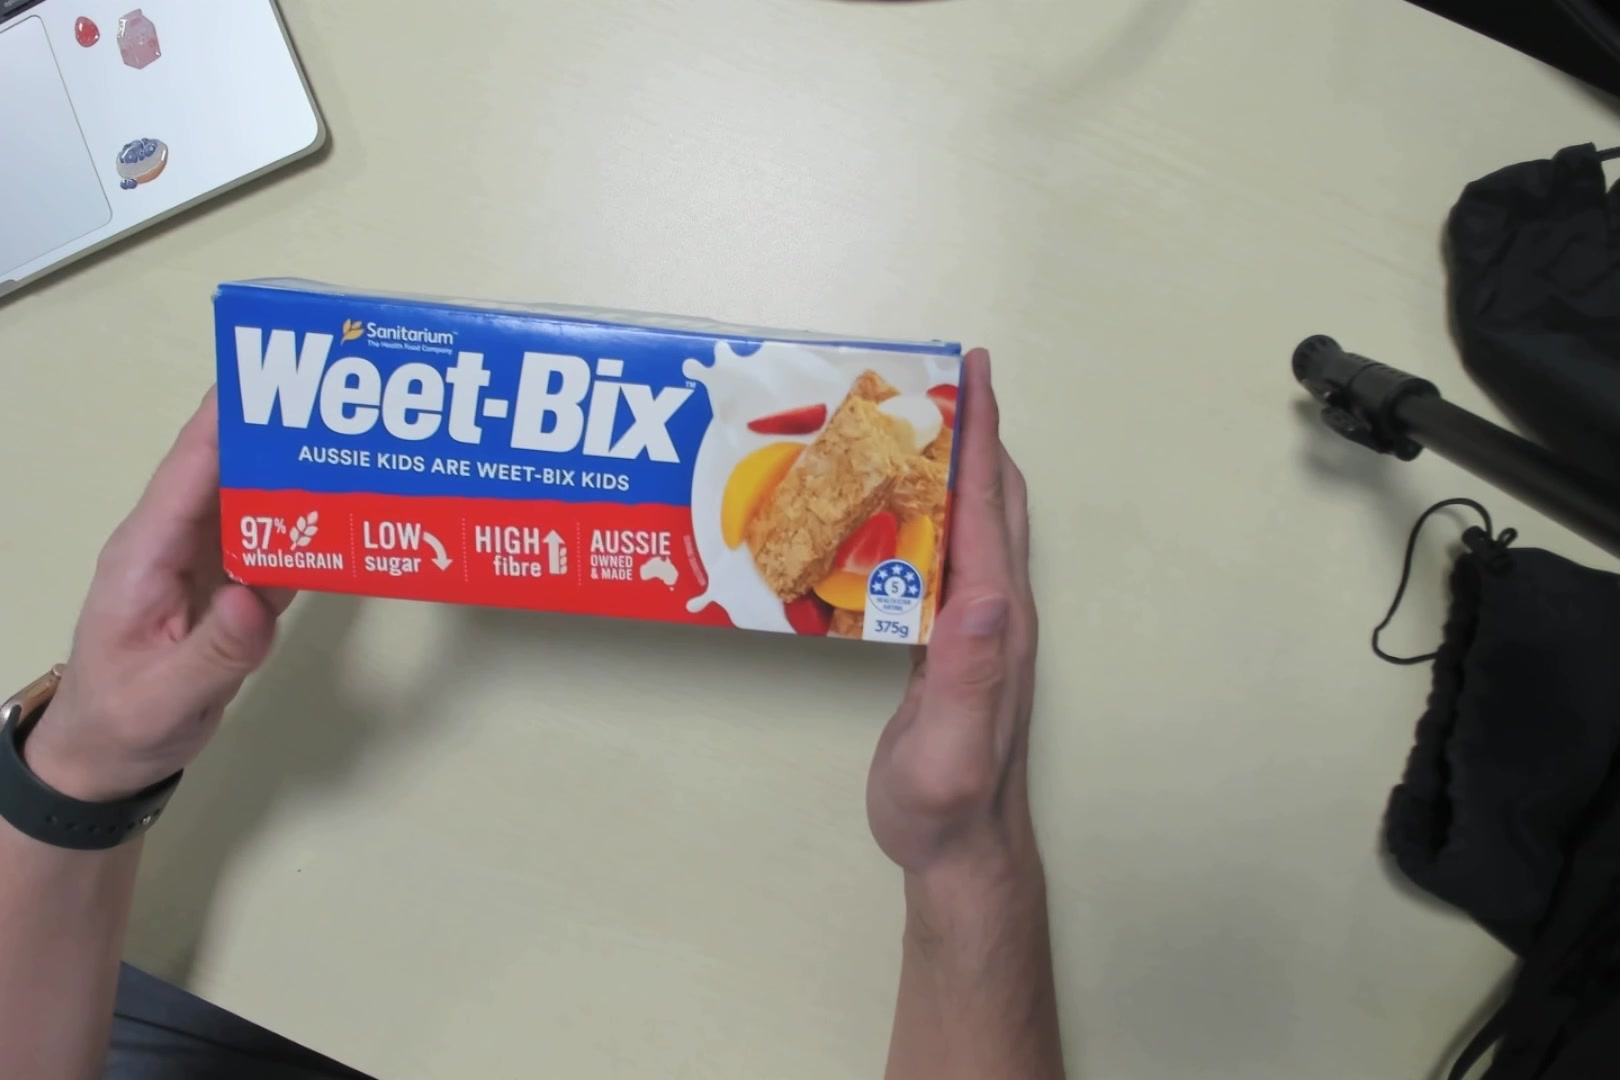BreakfastCereals_300-399g_NonHalal_NonHealthy: (207, 268, 952, 640)
